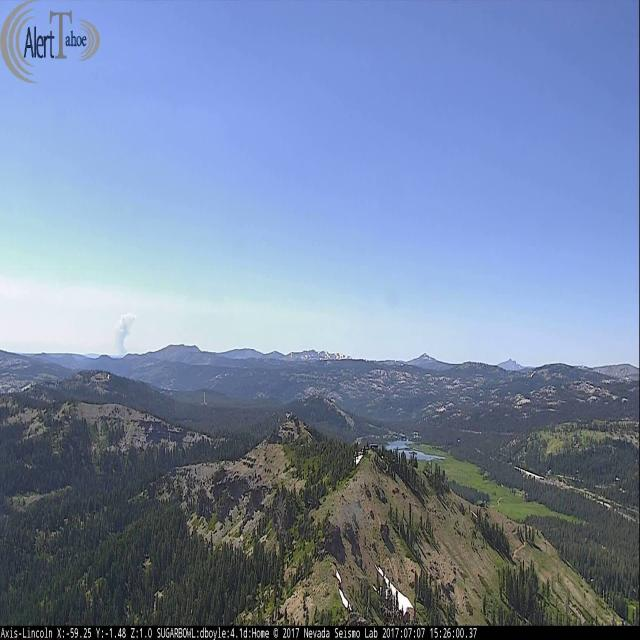smoke: (113, 308, 138, 356)
